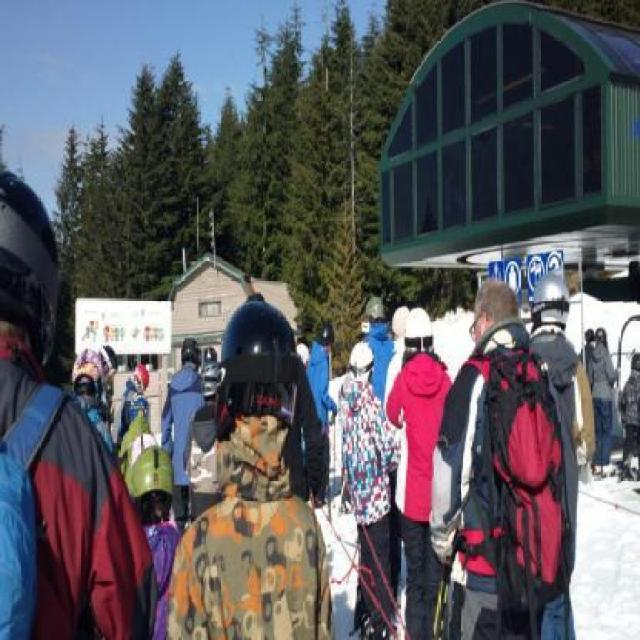backpack: (482, 351, 576, 620)
